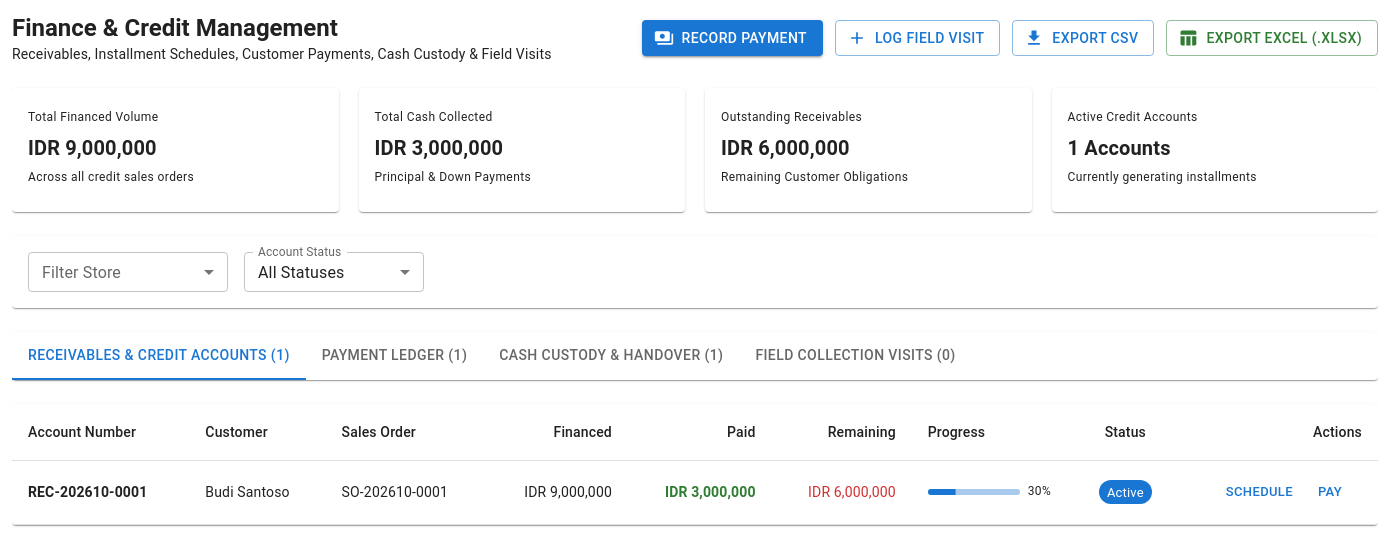
Test: FinancePage › switches tabs and displays payment ledger and cash custody
Click Payment Ledger tab
Click the tab "Payment Ledger (1)": x=395, y=356 [306,332,483,380]
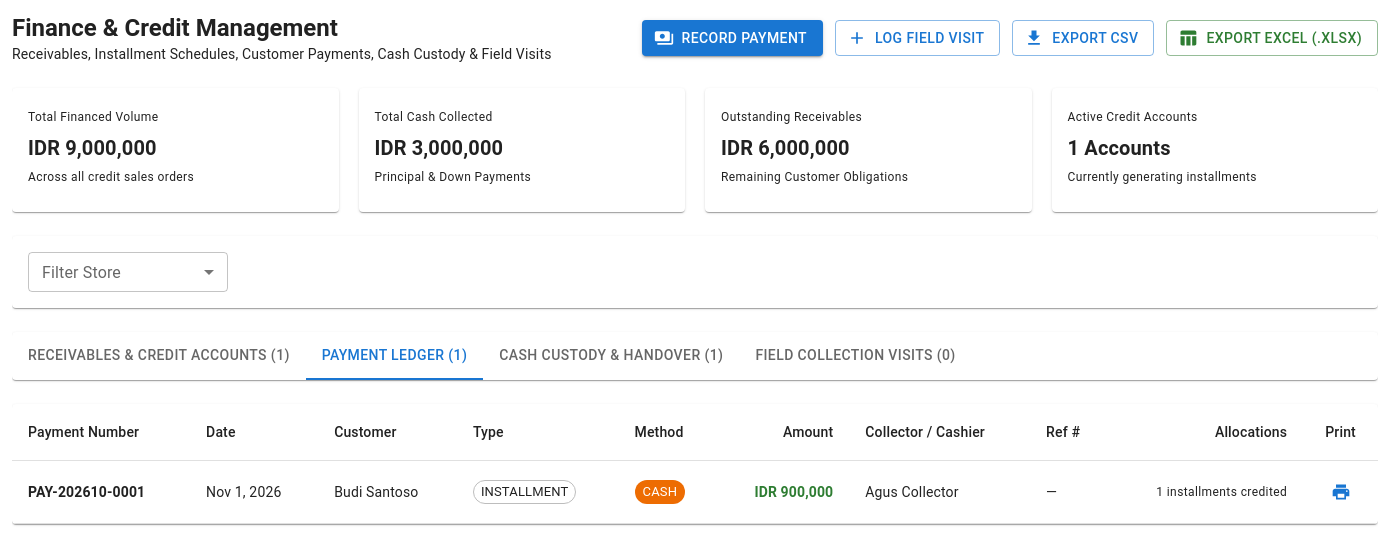
Expected: the text "PAY-202610-0001" is shown, [12,460,190,524]
Click Cash Custody tab
Click the tab "Cash Custody & Handover (1)": x=611, y=356 [483,332,739,380]
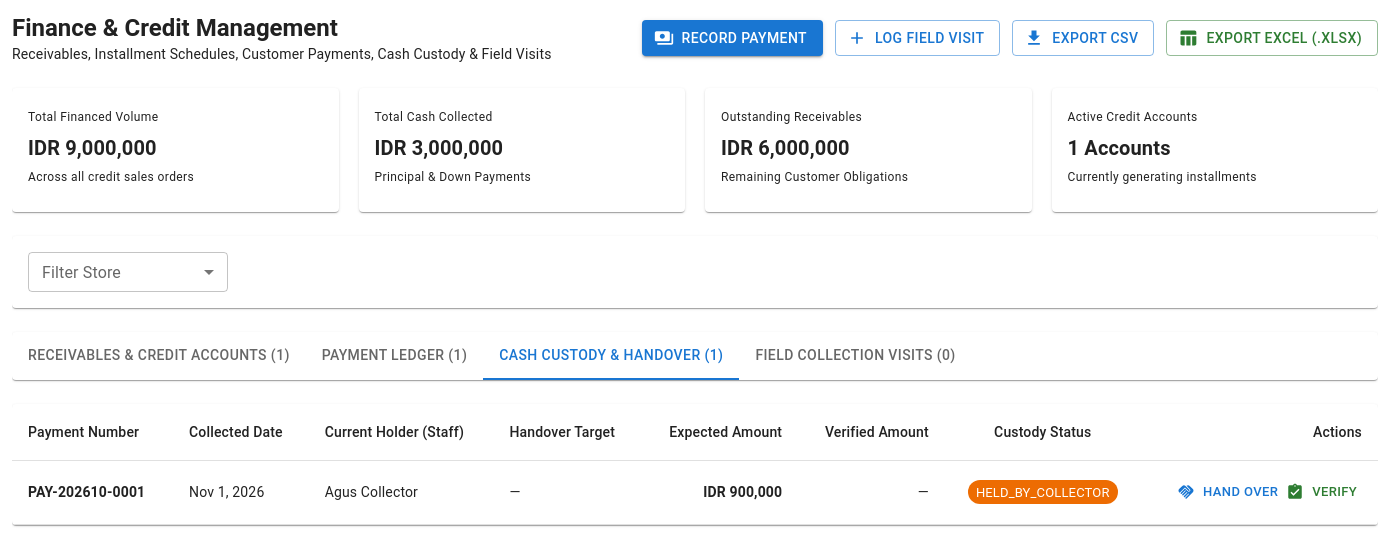
Expected: the text "HELD_BY_COLLECTOR" is shown, [968,483,1118,502]
Expected: the button "Hand Over" is shown, [1174,477,1283,508]
